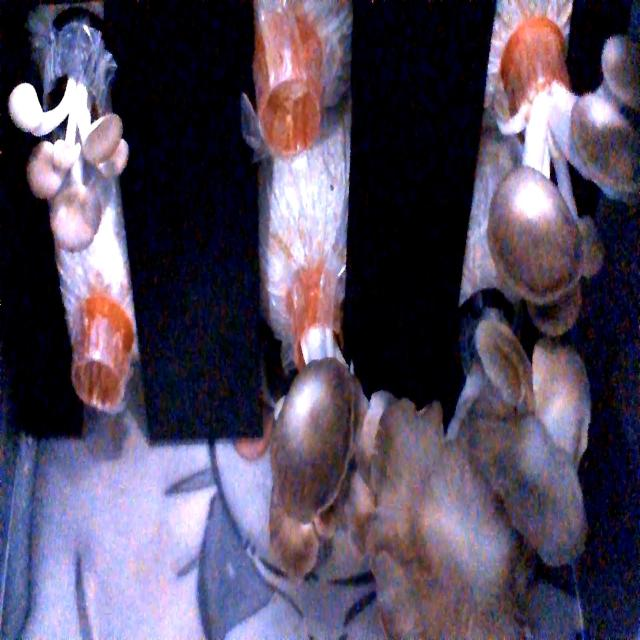big: (372, 342, 609, 640), (438, 15, 640, 331), (239, 377, 408, 586)
nfound: (242, 52, 330, 171), (68, 341, 142, 429)
small: (4, 66, 138, 256)
